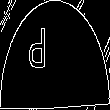P_S: (45, 29, 65, 81)
